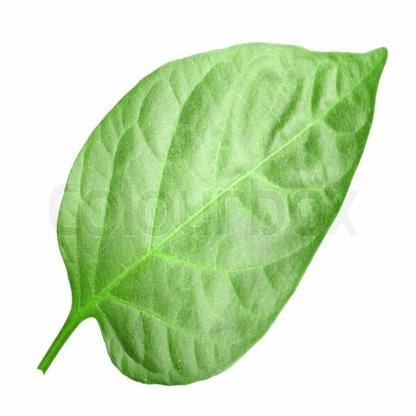Bell_pepper leaf: (55, 43, 388, 385)
